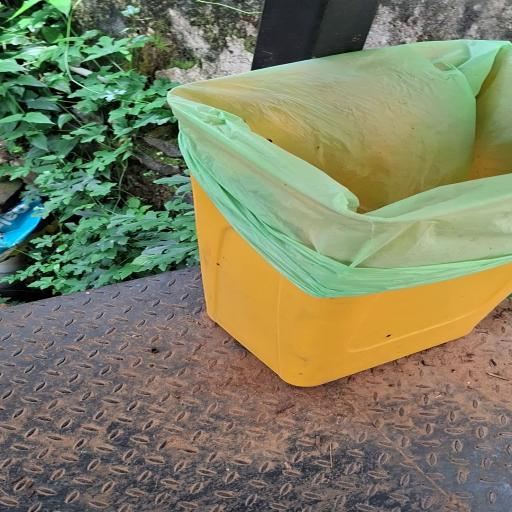Nilkamal-dustbin-detection: (169, 41, 512, 386)
